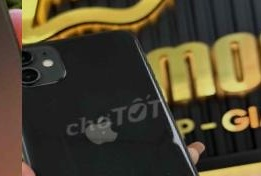scratch: (150, 111, 186, 158), (22, 45, 40, 87)
